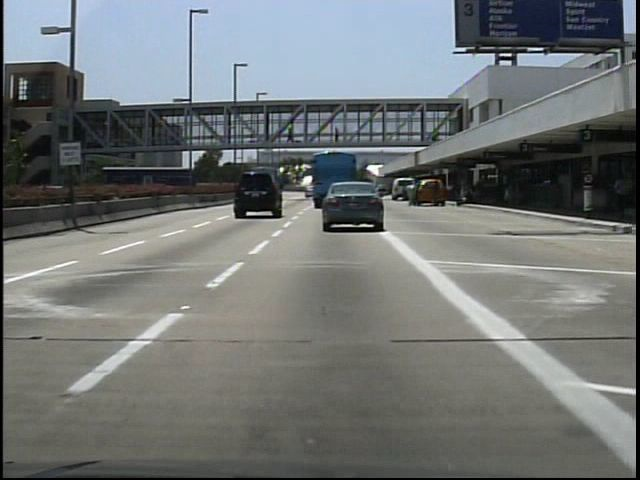person: (612, 169, 633, 219), (429, 177, 446, 211), (401, 179, 420, 209), (331, 124, 345, 151), (284, 122, 298, 144)
